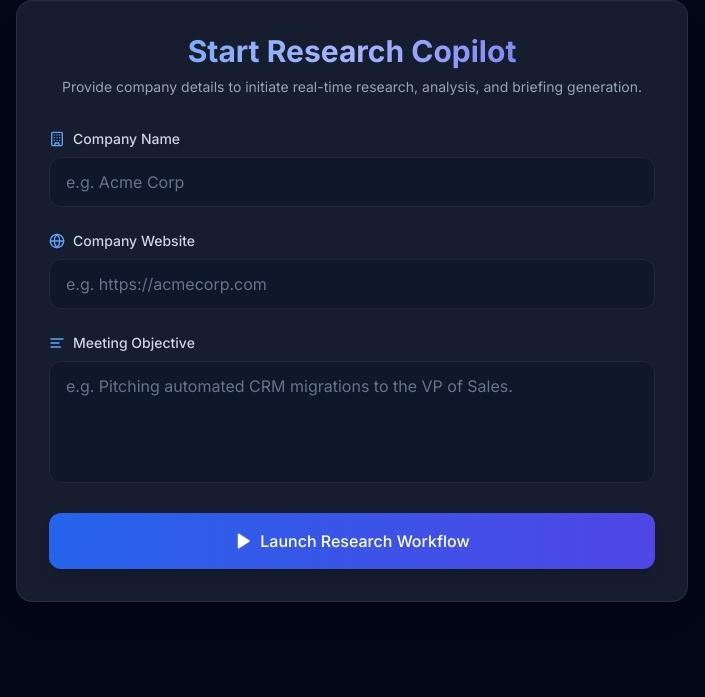
it: SessionCreate Component › shows validation error for invalid website
Type "Test Corp" into the field labelled "Company Name" at (352, 182), box [49, 157, 655, 207]
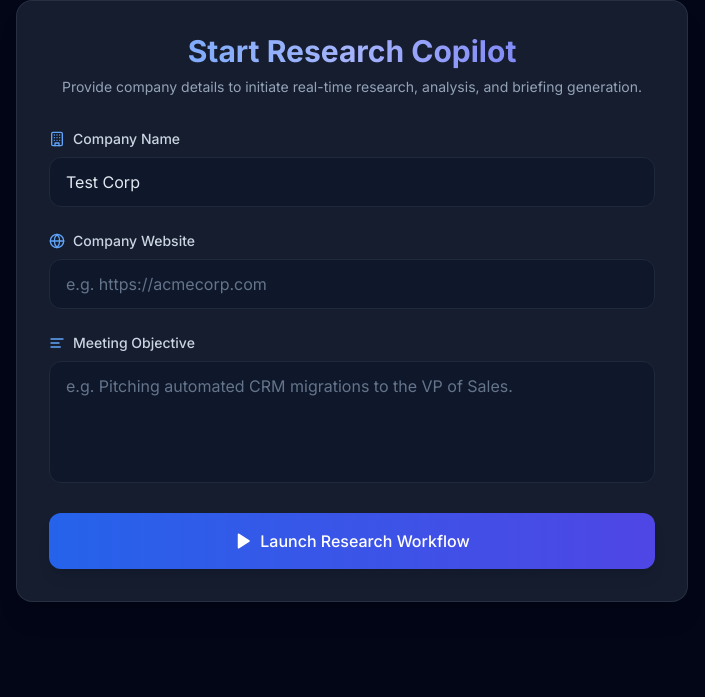
Type "invalid-url" into the field labelled "Company Website" at (352, 284), box [49, 259, 655, 309]
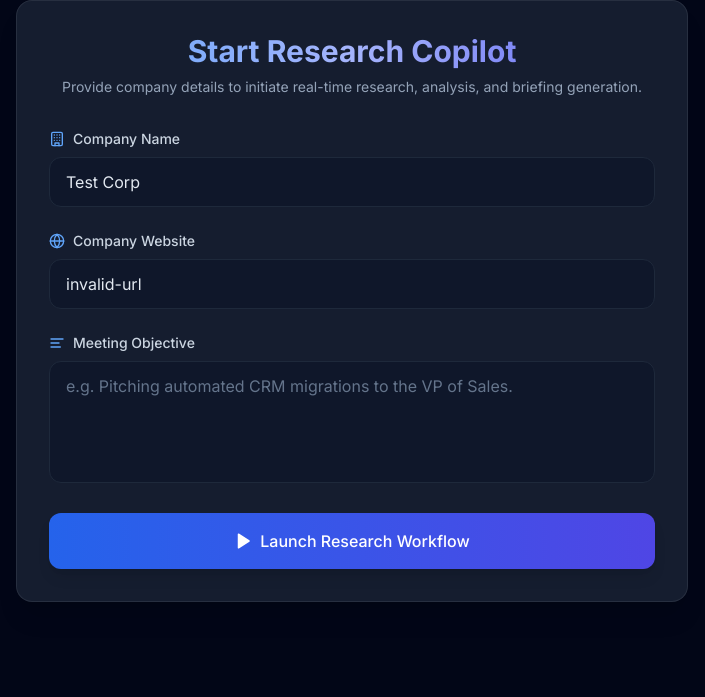
Click the button "Launch Research Workflow" at (352, 541), box [49, 513, 655, 569]
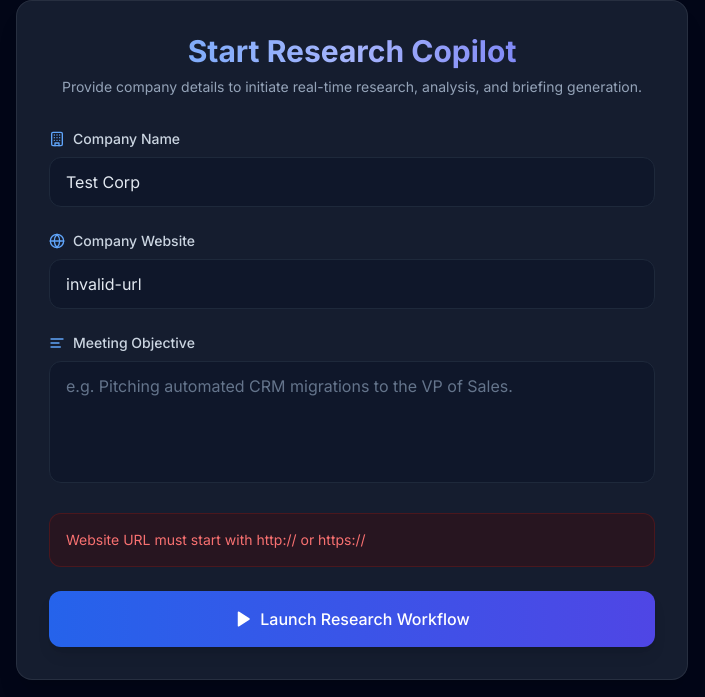
expect the text "Website URL must start with http:// or https://" is shown: met, box [49, 513, 655, 567]
